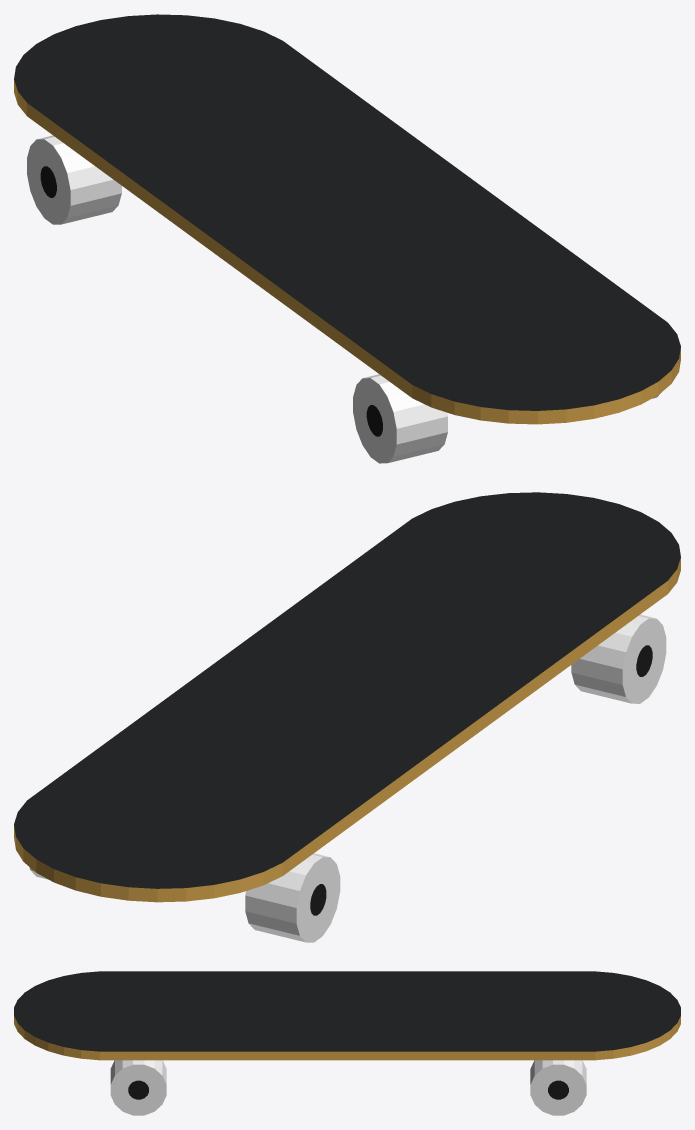
File: board 1.fbx
3 views of the same model, one above another, from view 1: azimuth 30°, elevation 25°; view 2: azimuth 150°, elevation 25°; view 3: azimuth 270°, elevation 25° (orthographic). The views are drawn at different scales.
Visible parts, largest first — view 1: Board, Wheels 2; view 2: Board, Wheels 2; view 3: Board, Wheels 2.
Part boxes in pixels (bbox=[...]): Board: bbox=[14, 14, 680, 424]; Wheels 2: bbox=[27, 135, 660, 463]; Board: bbox=[14, 492, 680, 902]; Wheels 2: bbox=[29, 614, 666, 942]; Board: bbox=[14, 971, 680, 1060]; Wheels 2: bbox=[110, 1060, 586, 1115].
Size of the model in its own units: 21 by 7.14 by 69.9.
